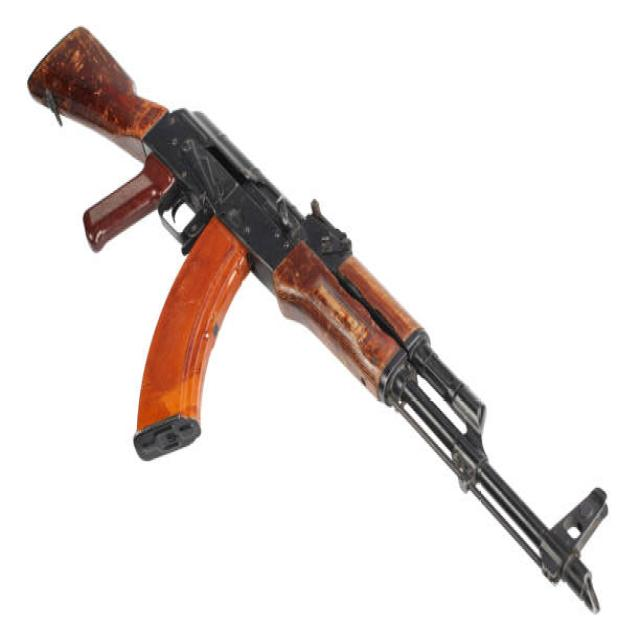rifle: (21, 18, 618, 616)
